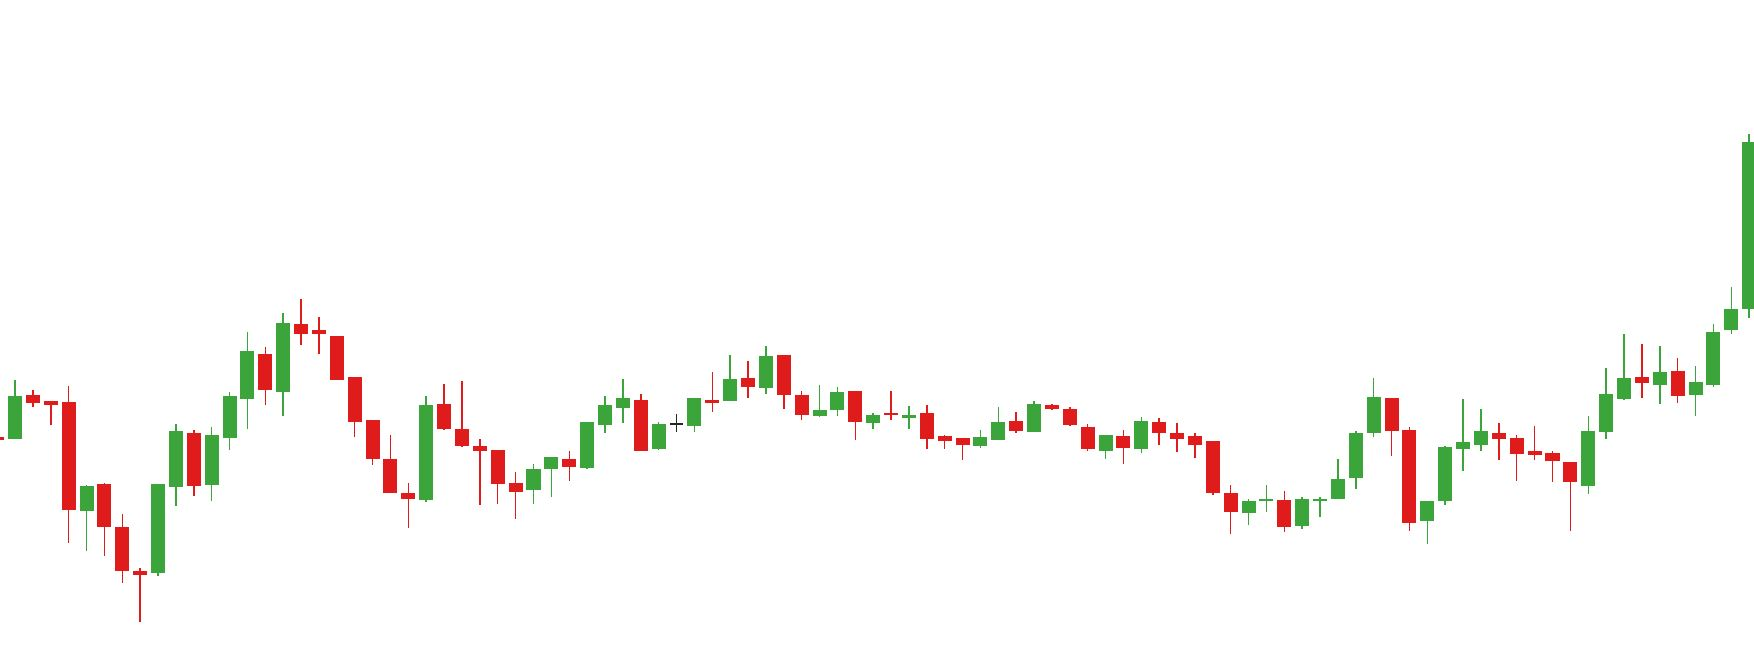buy: (182, 384, 433, 527), (1277, 451, 1434, 544)
